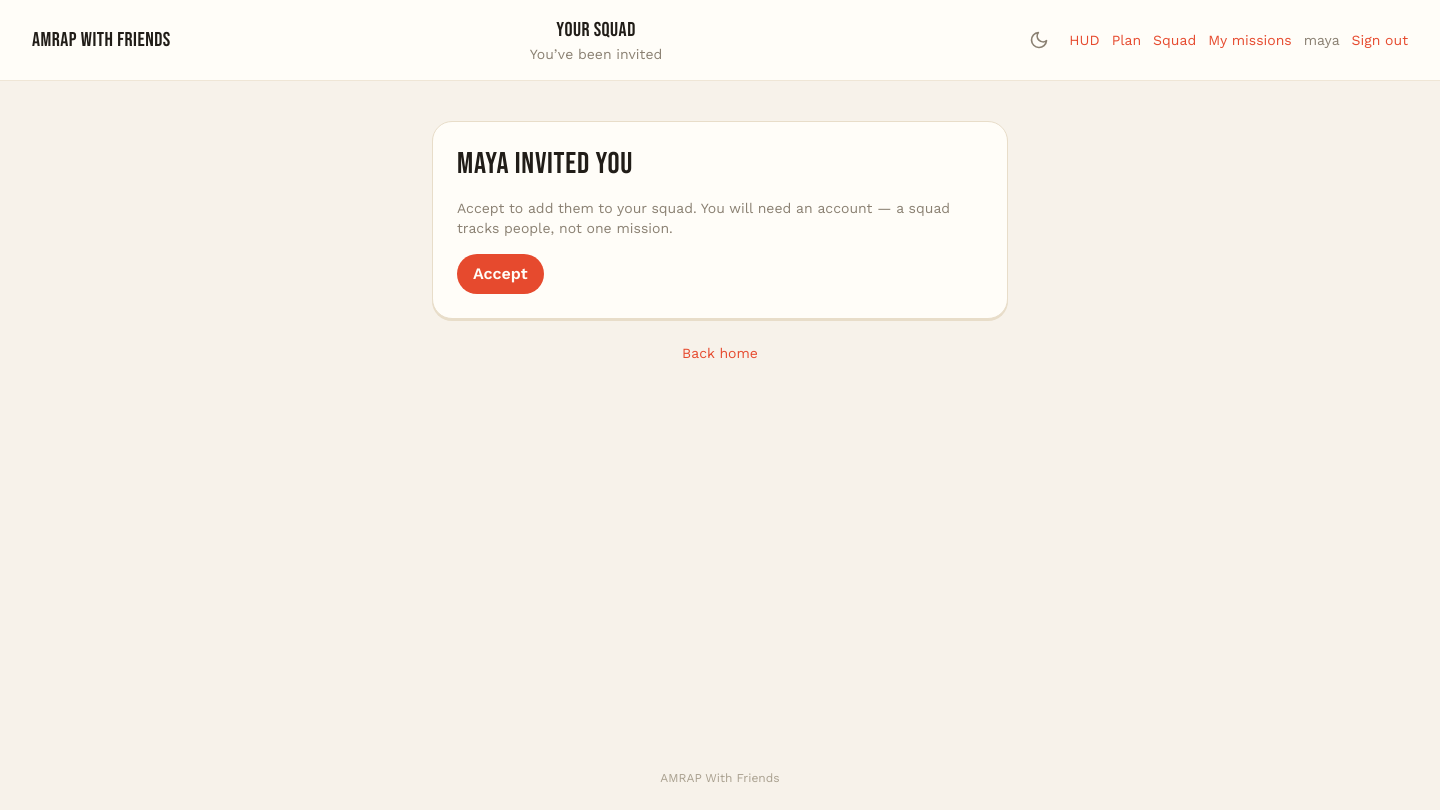
Scenario: JoinSquadPage › surfaces an accept failure and stays put
Click the button "Accept". click: (500, 274)
box: [457,254,544,294]
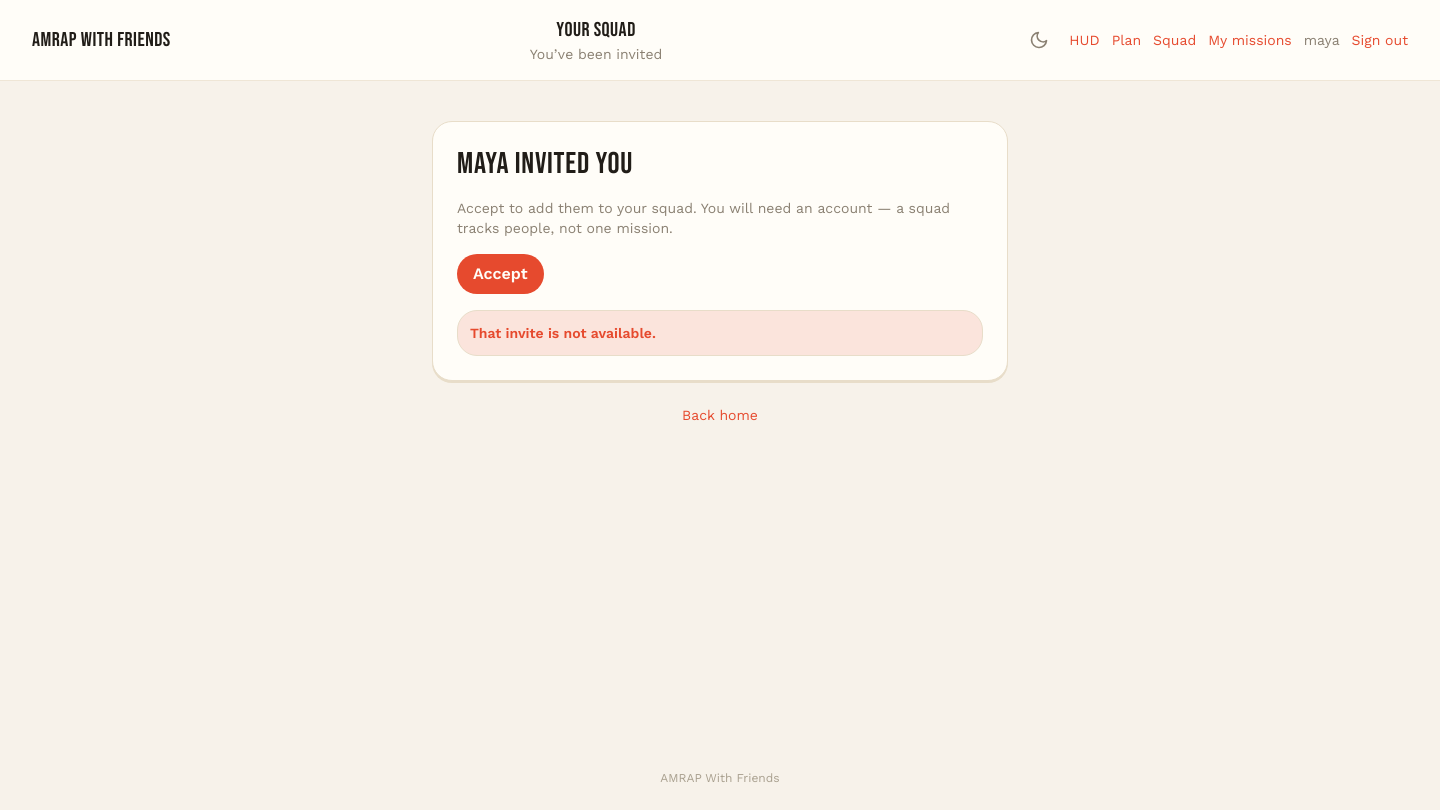
Now the text "That invite is not available." is shown, box [457,310,983,356]
